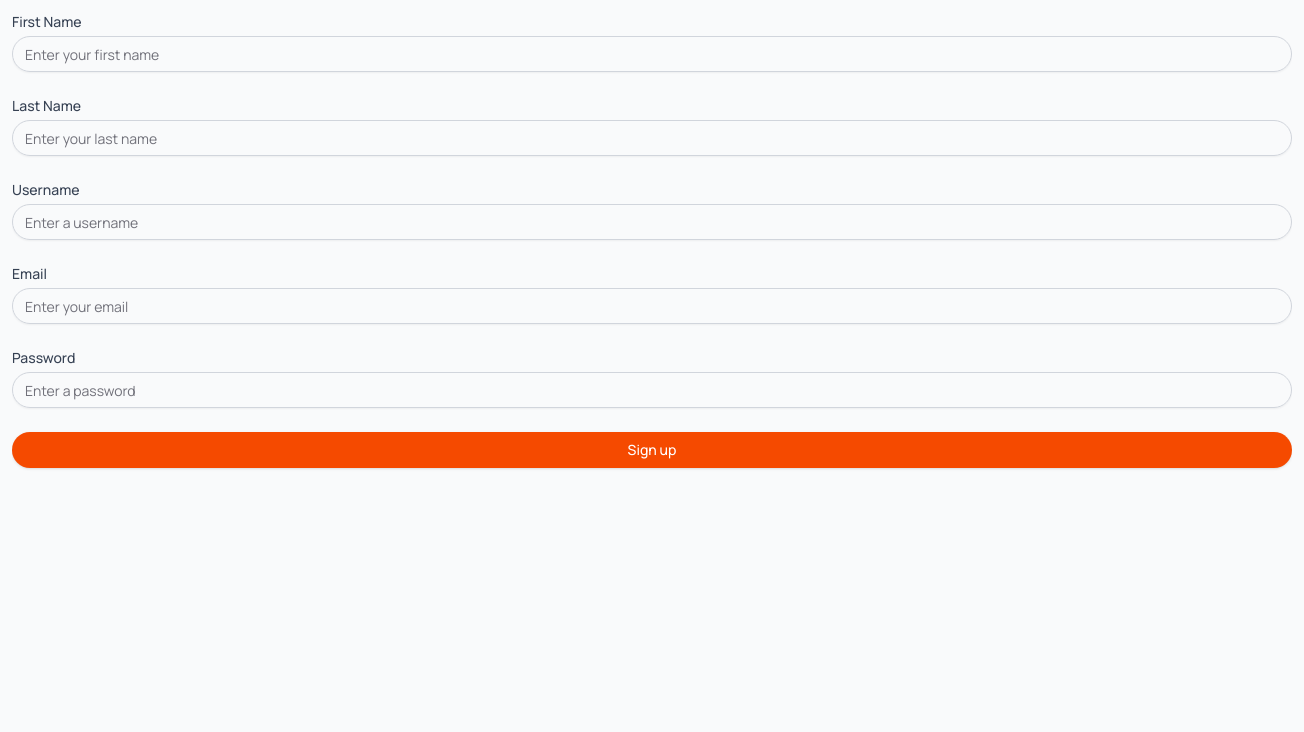
Test: SignupForm Component › should display error message when email is already registered
Step 1. Type "John" into the field with placeholder "Enter your first name" → (652, 54), box left=12, top=36, right=1292, bottom=72
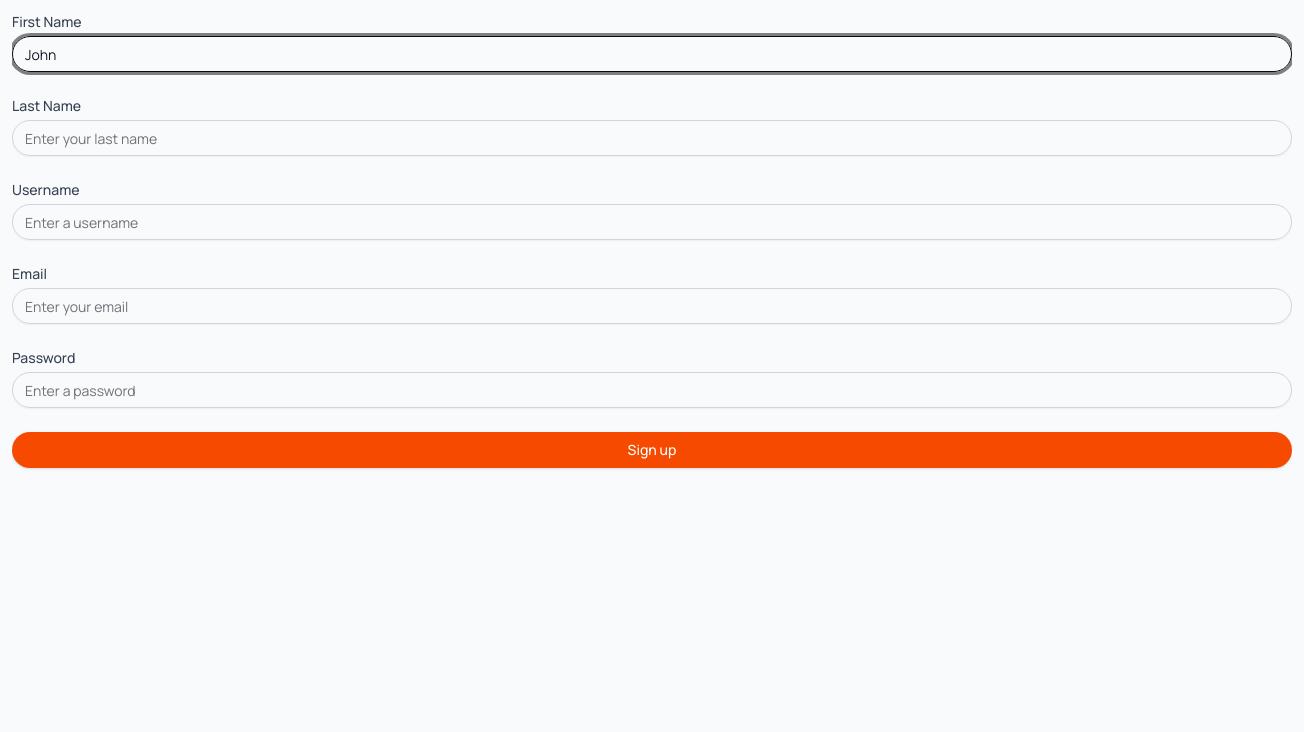
Step 2. Type "Doe" into the field with placeholder "Enter your last name" → (652, 138), box left=12, top=120, right=1292, bottom=156
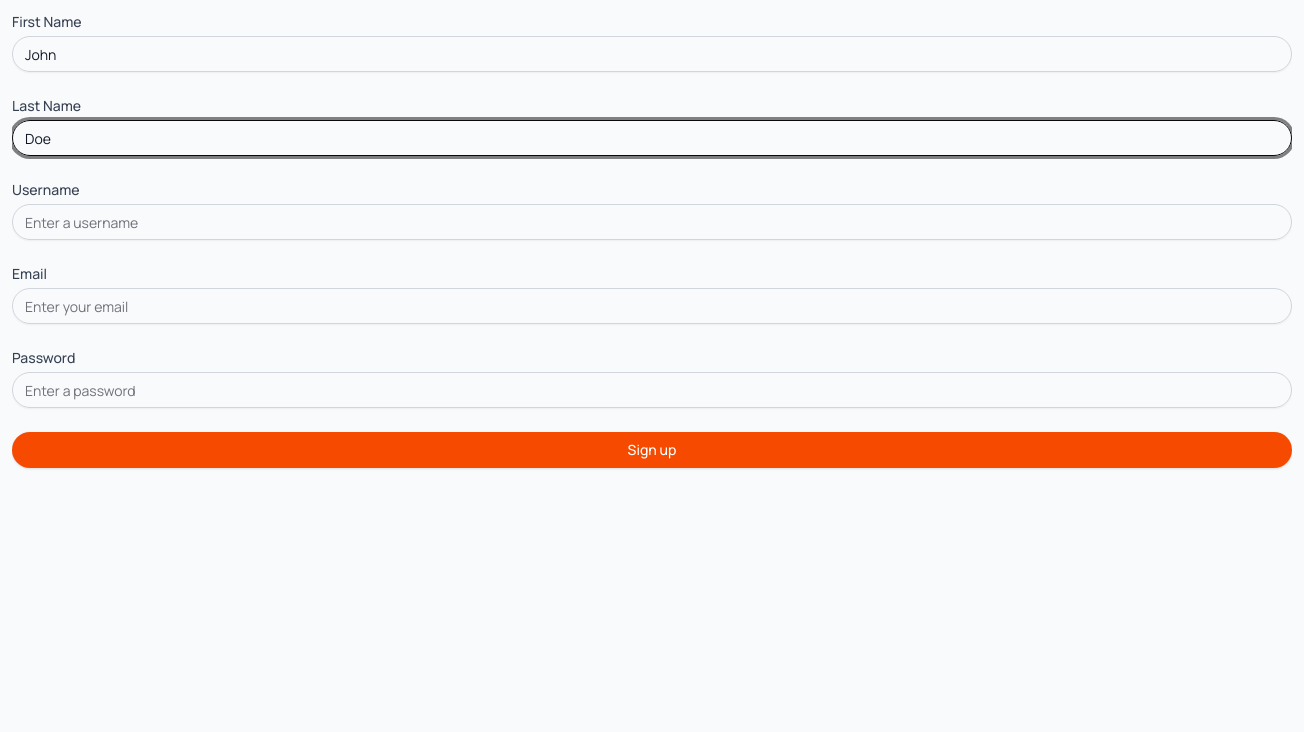
Step 3. Type "johndoe" into the field with placeholder "Enter a username" → (652, 222), box left=12, top=204, right=1292, bottom=240
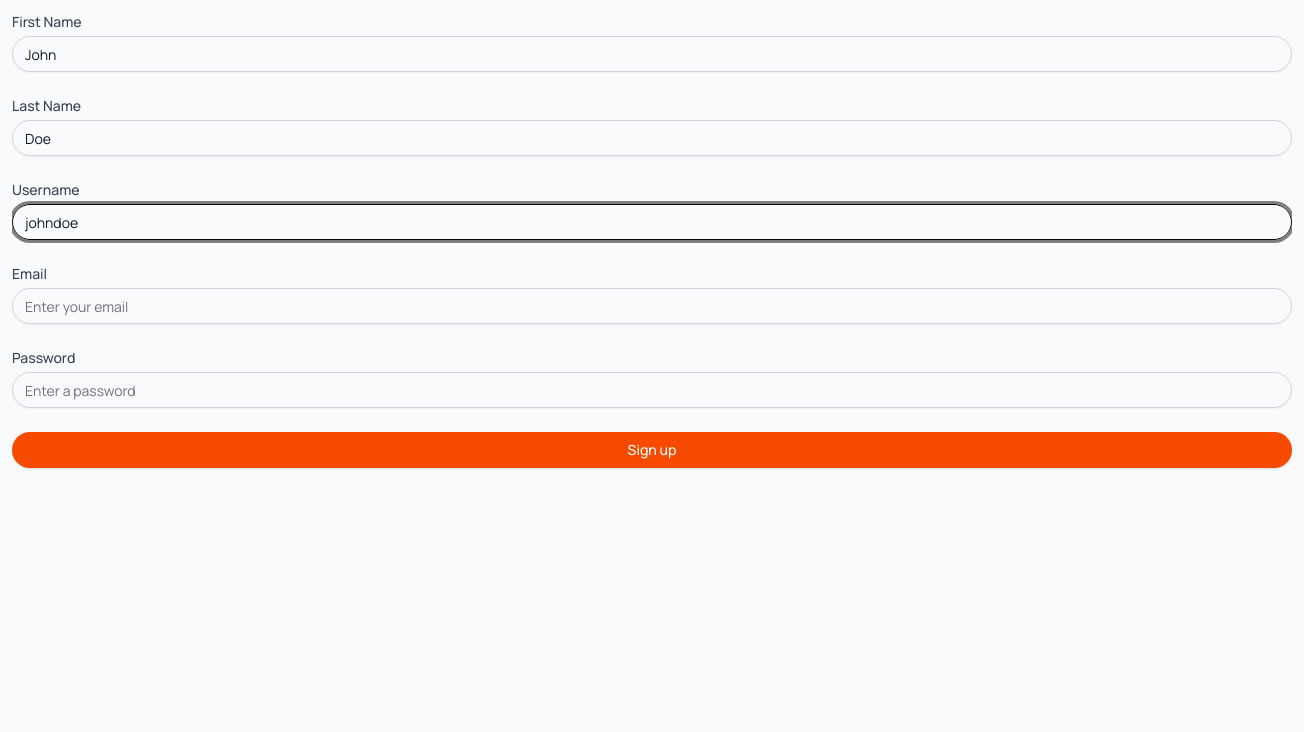
Step 4. Type "existing@example.com" into the field with placeholder "Enter your email" → (652, 306), box left=12, top=288, right=1292, bottom=324
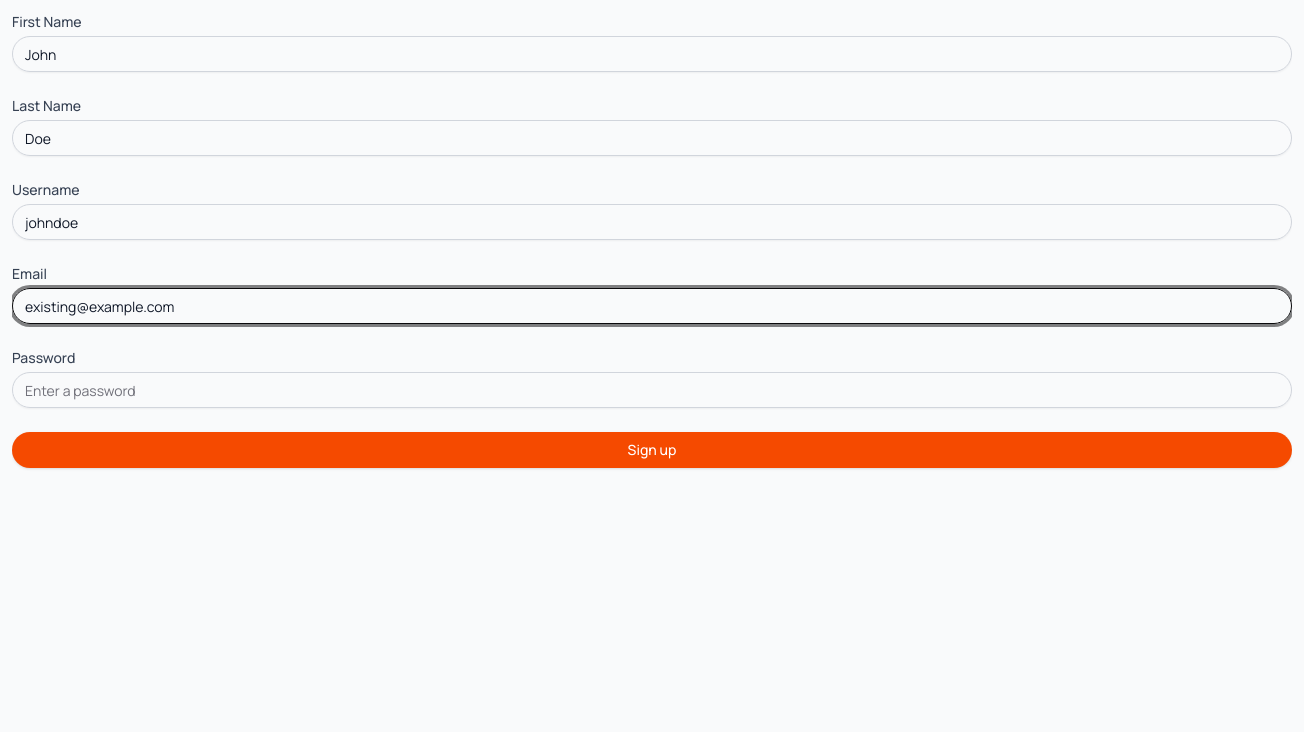
Step 5. Type "SecurePassword123" into the password field with placeholder "Enter a password" → (652, 390), box left=12, top=372, right=1292, bottom=408
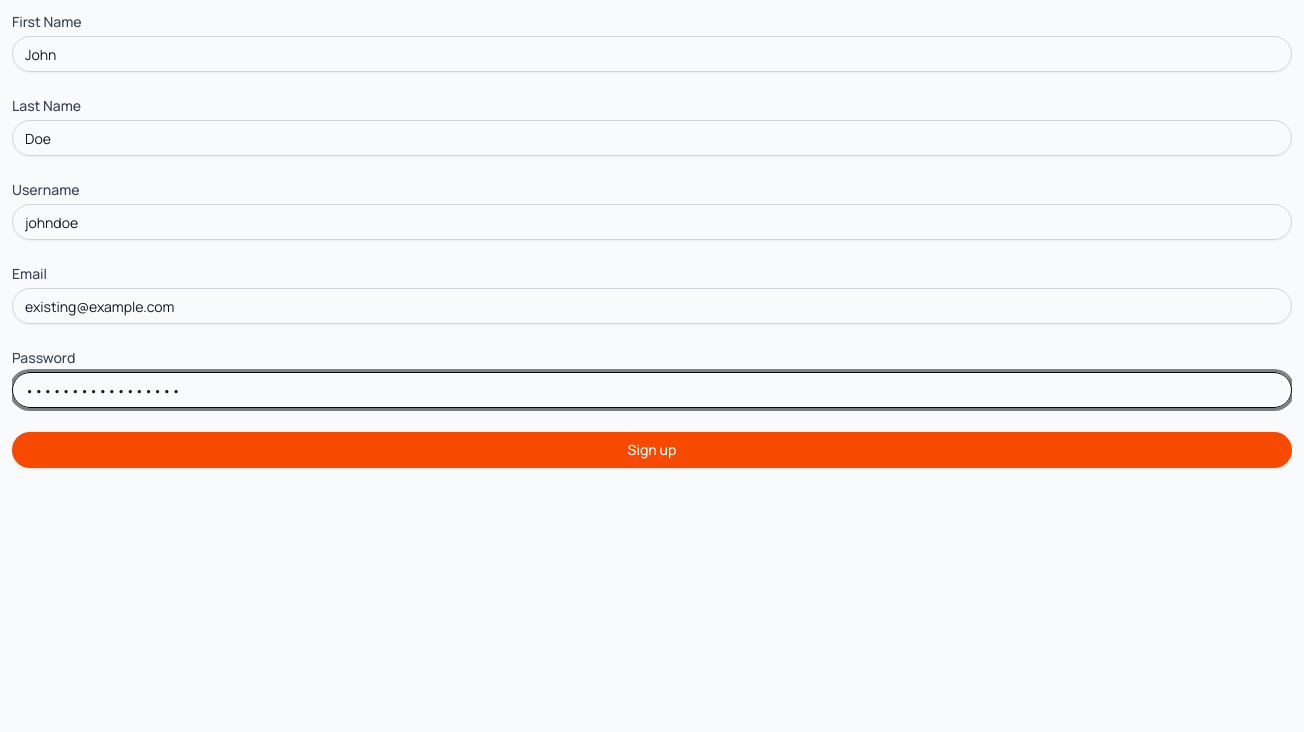
Step 6. Click the button "Sign up" → click(652, 450), box left=12, top=432, right=1292, bottom=468
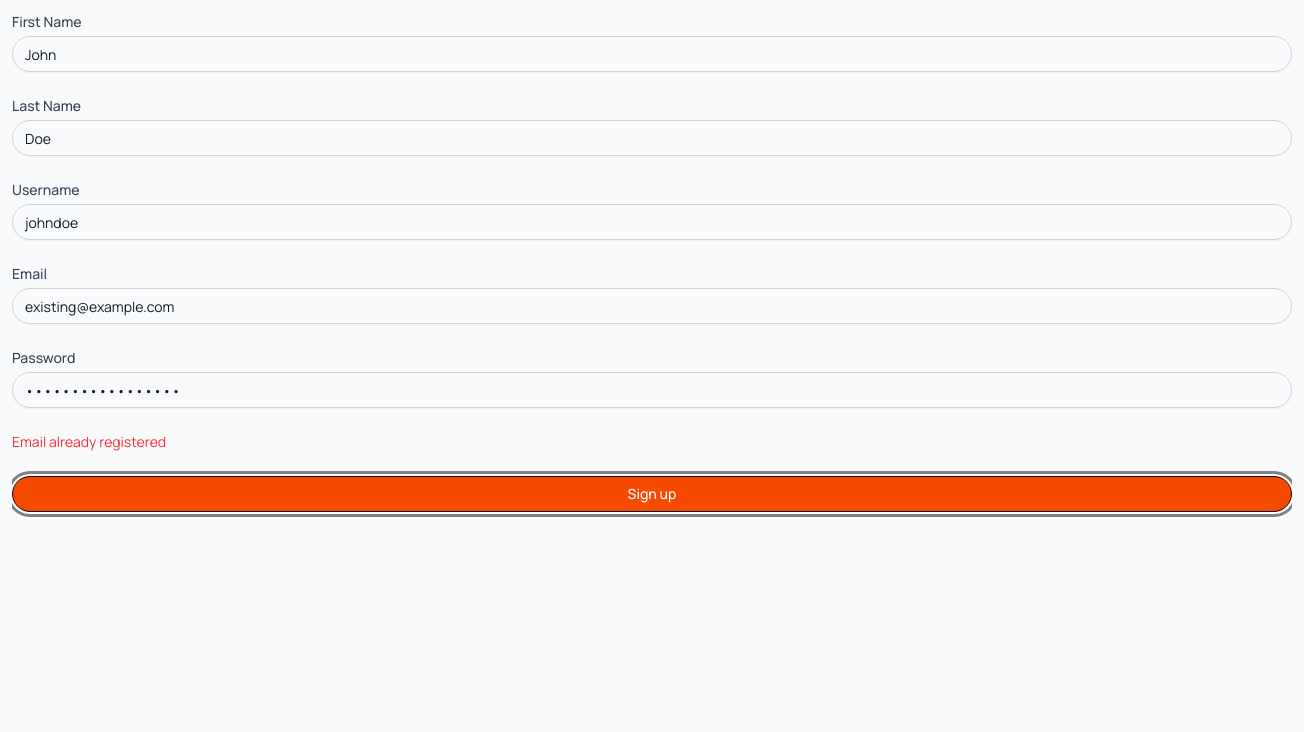
Check: the text "Email already registered" is shown, box left=12, top=432, right=166, bottom=451
